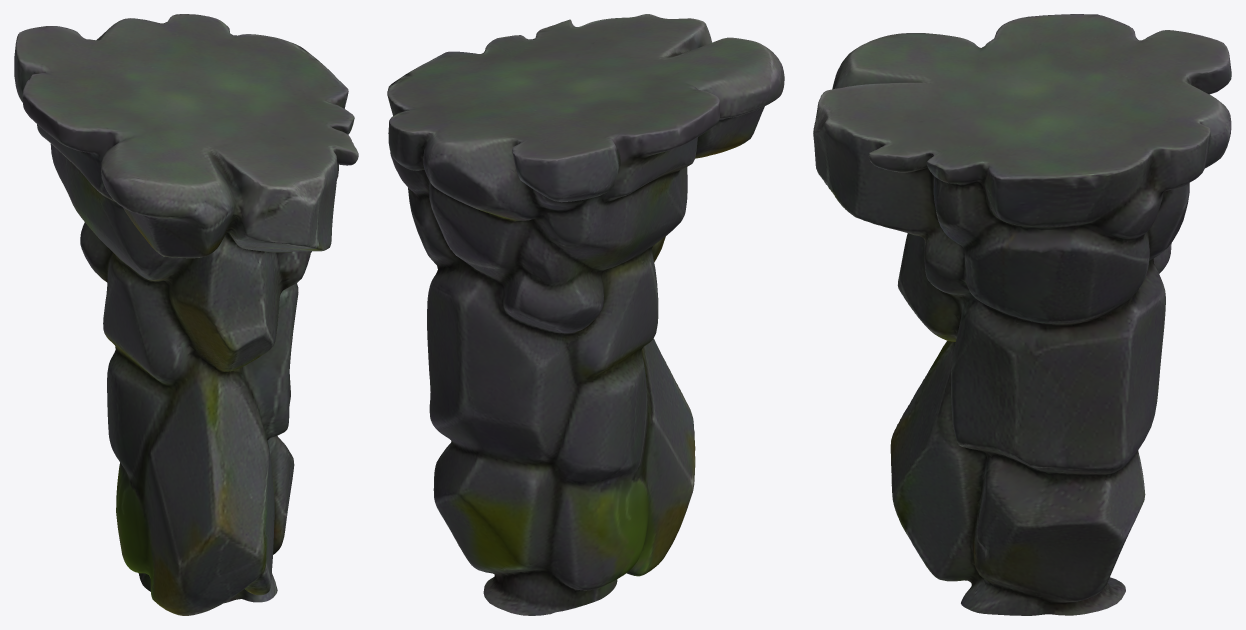
Rendered from Gib_LeftLeg.gltf.
The picture shows the model from 3 angles, left to right: view 1: azimuth 30°, elevation 25°; view 2: azimuth 150°, elevation 25°; view 3: azimuth 270°, elevation 25°; orthographic projection. The views are drawn at different scales.
Parts seen in each view (by area): view 1: Gib_LeftLeg; view 2: Gib_LeftLeg; view 3: Gib_LeftLeg.
Part boxes in pixels (<box>): Gib_LeftLeg: <box>14,14,358,615</box>; Gib_LeftLeg: <box>387,14,784,615</box>; Gib_LeftLeg: <box>813,14,1231,615</box>.
Bounding box in the file's own units: 0.4081 × 0.6889 × 0.5184.
Materials: 1 (1 with a texture image).
